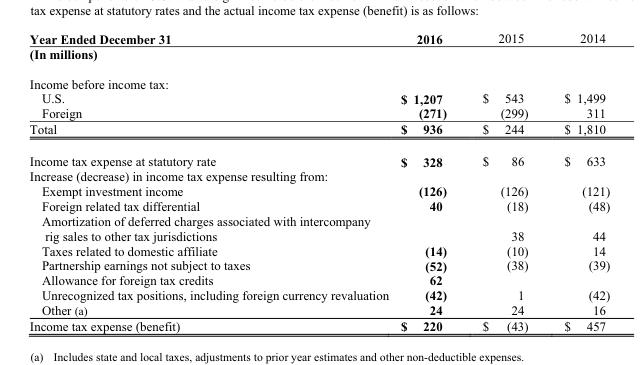table: (28, 29, 609, 333)
table column: (28, 29, 394, 333), (463, 29, 545, 333), (394, 29, 463, 333), (545, 29, 609, 333)
table column header: (28, 29, 609, 45)
table projected row header: (28, 45, 609, 68), (28, 68, 609, 90), (28, 168, 609, 183)
table row: (28, 212, 609, 242), (28, 120, 609, 144), (28, 144, 609, 168), (28, 45, 609, 68), (28, 68, 609, 90), (28, 29, 609, 45), (28, 317, 609, 333), (28, 90, 609, 105), (28, 105, 609, 120), (28, 168, 609, 183), (28, 183, 609, 198), (28, 242, 609, 257), (28, 257, 609, 272), (28, 272, 609, 287), (28, 287, 609, 302), (28, 302, 609, 317), (28, 198, 609, 212)
